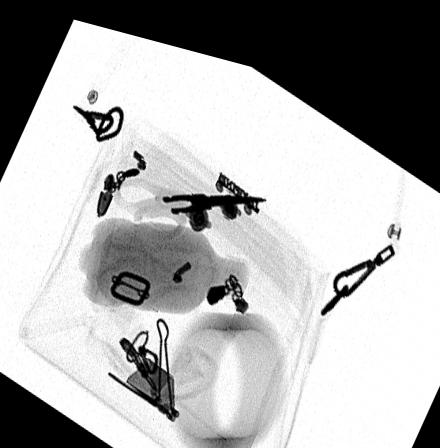Scissors: (113, 169, 268, 229)
